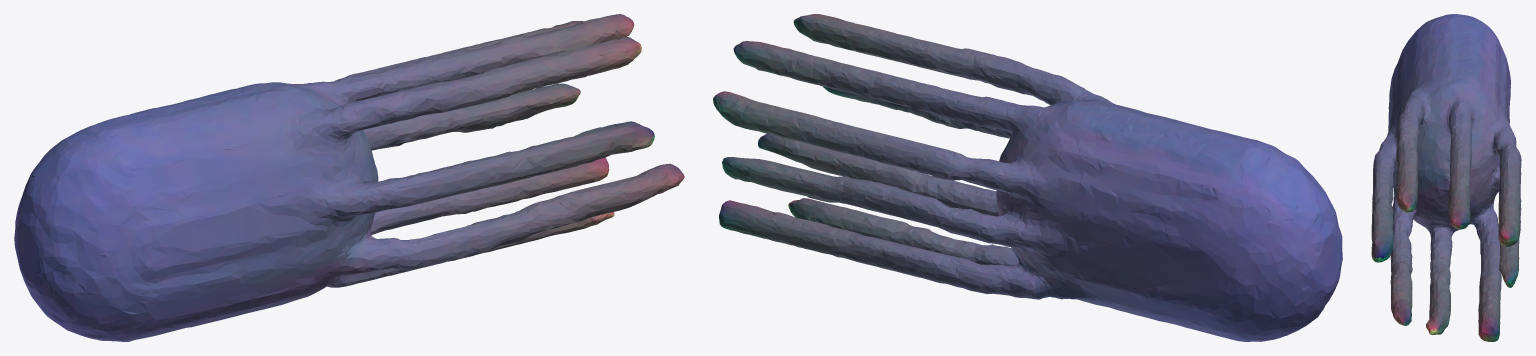
File: octopus-19.off.obj
The picture shows the model from 3 angles, left to right: view 1: azimuth 30°, elevation 25°; view 2: azimuth 150°, elevation 25°; view 3: azimuth 270°, elevation 25°; orthographic projection. The views are drawn at different scales.
Bounding box in the file's own units: 1.76 × 0.5522 × 0.499.
